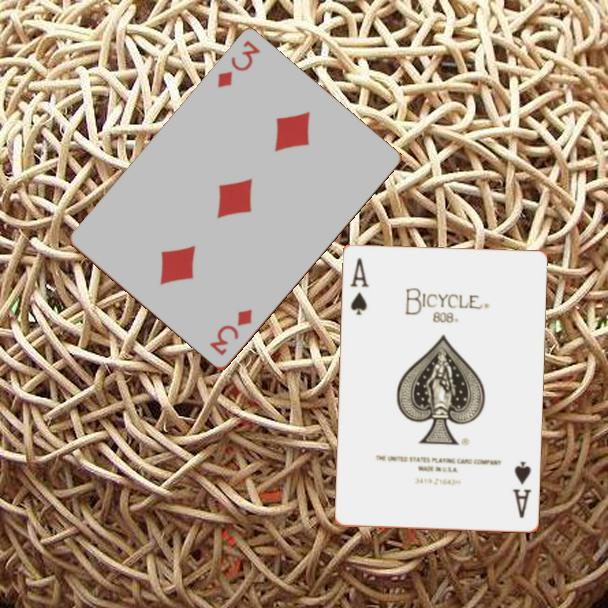d03: (214, 37, 263, 91), (206, 306, 255, 359)
s01: (346, 254, 371, 318), (509, 458, 534, 521)
